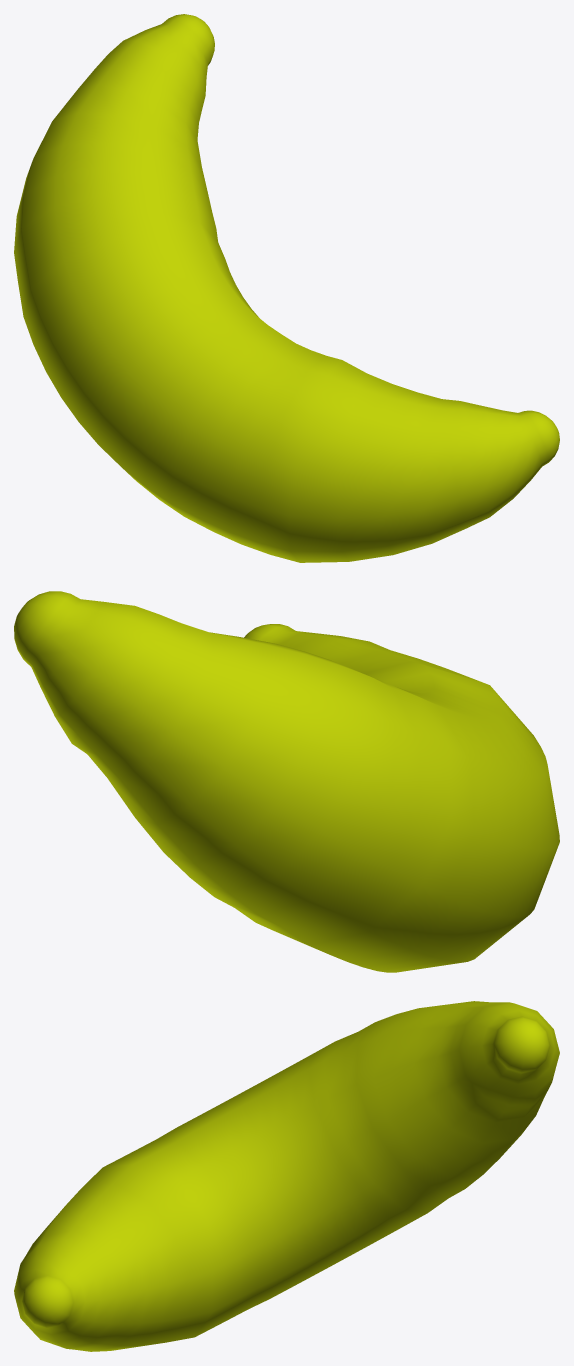
File: banana.FBX
3 renders of one model, top to bottom at view 1: azimuth 30°, elevation 25°; view 2: azimuth 150°, elevation 25°; view 3: azimuth 270°, elevation 25°, orthographic. The views are drawn at different scales.
Visible parts, largest first — view 1: banana; view 2: banana; view 3: banana.
Boxes of the visible parts, <box> form: banana: <box>14,14,559,562</box>; banana: <box>14,591,559,972</box>; banana: <box>14,1001,559,1351</box>.
Size of the model in its own units: 29.43 by 30.44 by 43.21.
